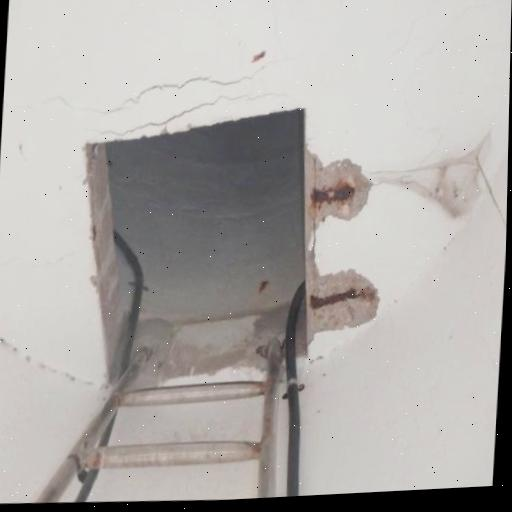exposed_rebar: (310, 287, 374, 309), (311, 179, 354, 204)
spalling: (306, 150, 379, 340)
